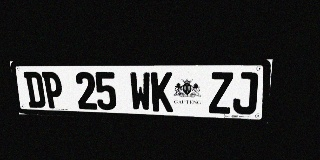2: (75, 72, 97, 110)
5: (95, 72, 117, 110)
D: (23, 72, 46, 108)
J: (232, 72, 259, 115)
K: (151, 72, 173, 112)
P: (42, 72, 64, 109)
W: (129, 72, 152, 111)
Z: (209, 72, 233, 114)
